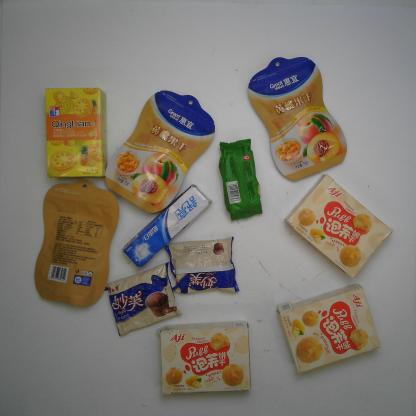Dessert: (282, 173, 394, 278), (276, 283, 380, 373), (160, 320, 252, 394), (43, 84, 108, 180), (101, 260, 183, 336), (164, 234, 241, 298), (218, 139, 263, 224)
Dried Fruit: (102, 88, 218, 214), (244, 55, 349, 182), (32, 178, 121, 310)
Personal Hygiene: (121, 184, 211, 268)
